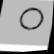no answer: (17, 4, 46, 34)
